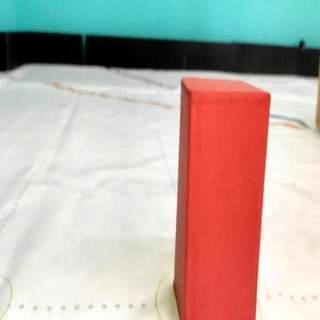redbox: (175, 76, 272, 320)
